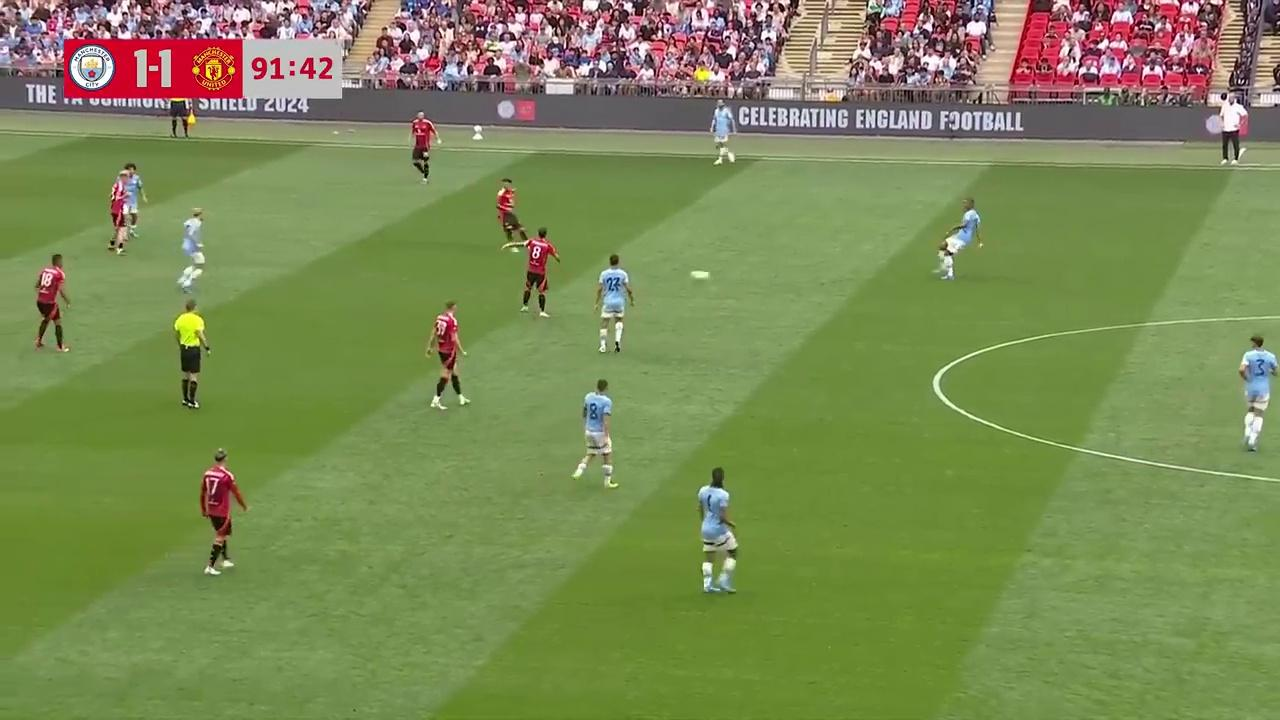ball: (688, 265, 713, 285)
player: (199, 449, 249, 576), (697, 466, 738, 595), (571, 379, 618, 488), (425, 301, 469, 409), (1239, 335, 1277, 450), (934, 199, 983, 281), (594, 254, 633, 354), (520, 227, 561, 318), (34, 253, 71, 353), (407, 110, 438, 193), (119, 162, 146, 240), (496, 177, 524, 252), (180, 209, 205, 288), (108, 171, 129, 254), (710, 102, 735, 165)
referee: (173, 298, 209, 409), (171, 92, 197, 139)
